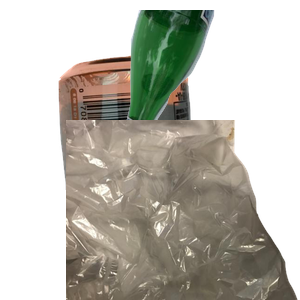glass: (109, 10, 300, 167)
metal: (56, 52, 242, 232)
plastic: (74, 156, 280, 300)
trash: (66, 120, 300, 300)
